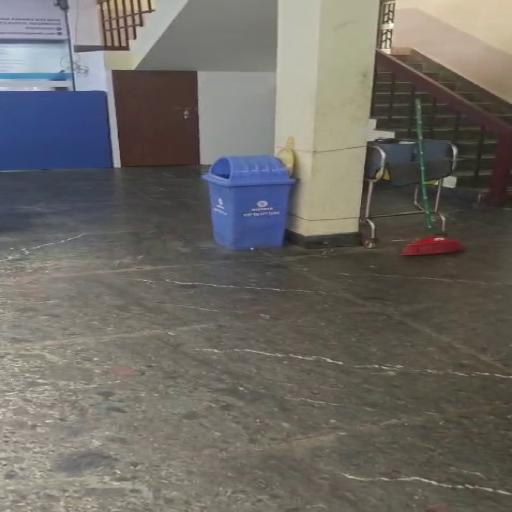Nilkamal-dustbin-detection: (201, 154, 299, 256)
